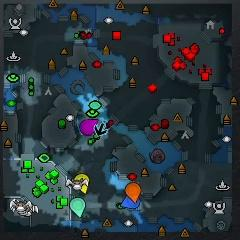p1: (120, 196, 141, 209)
p2: (70, 198, 86, 218)
p3: (80, 119, 98, 135)
p4: (74, 174, 89, 194)
p5: (125, 183, 142, 202)
x3Clone: (95, 123, 107, 137)
